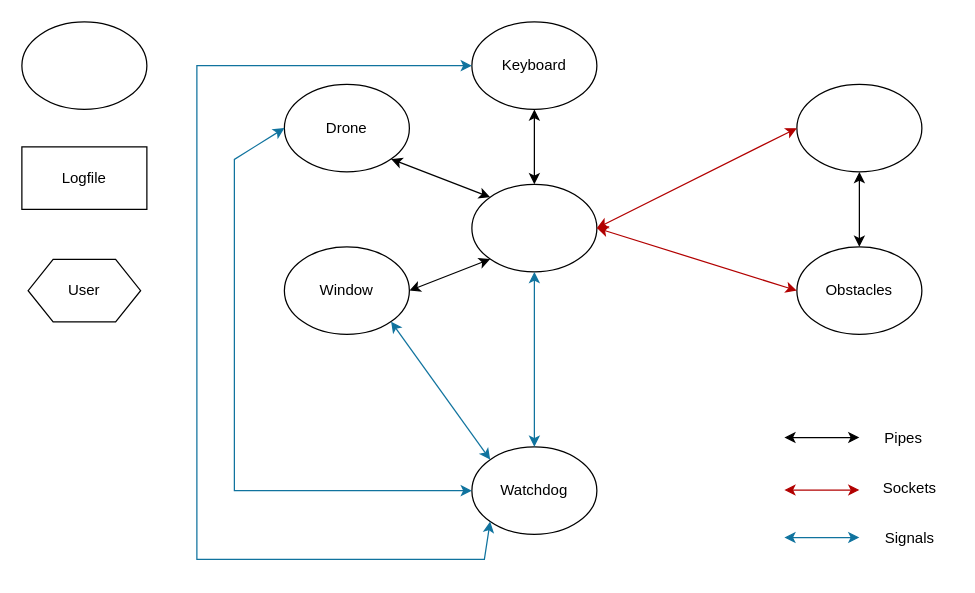
Image size: 975x593. Some labels were removed from this diagram. The shapes that lost their labels are listed below. From the top down, each one's box as (x1, y1, x2, y2) in pixels, then its label:
(21, 21, 147, 109): Master (forks all)
(796, 83, 922, 172): Targets
(471, 183, 597, 272): Server
